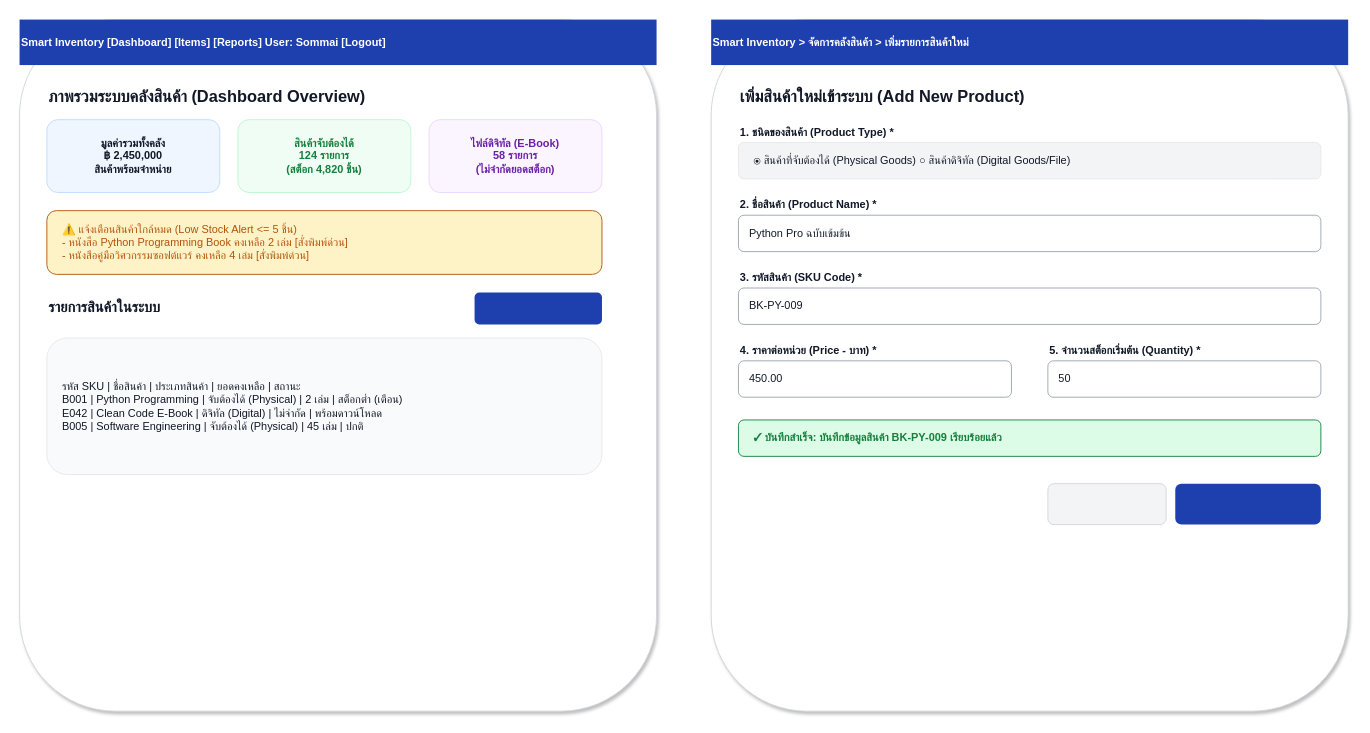
Some shapes in this 1370 by 733 pixel diagram are drawn without their labels. Here are the shapes that lost their labels. From the top down, the centre of each, then its label:
[538,308]: + เพิ่มสินค้าใหม่
[1106,504]: ยกเลิก (Cancel)
[1247,503]: บันทึกสินค้าใหม่ (Save)
